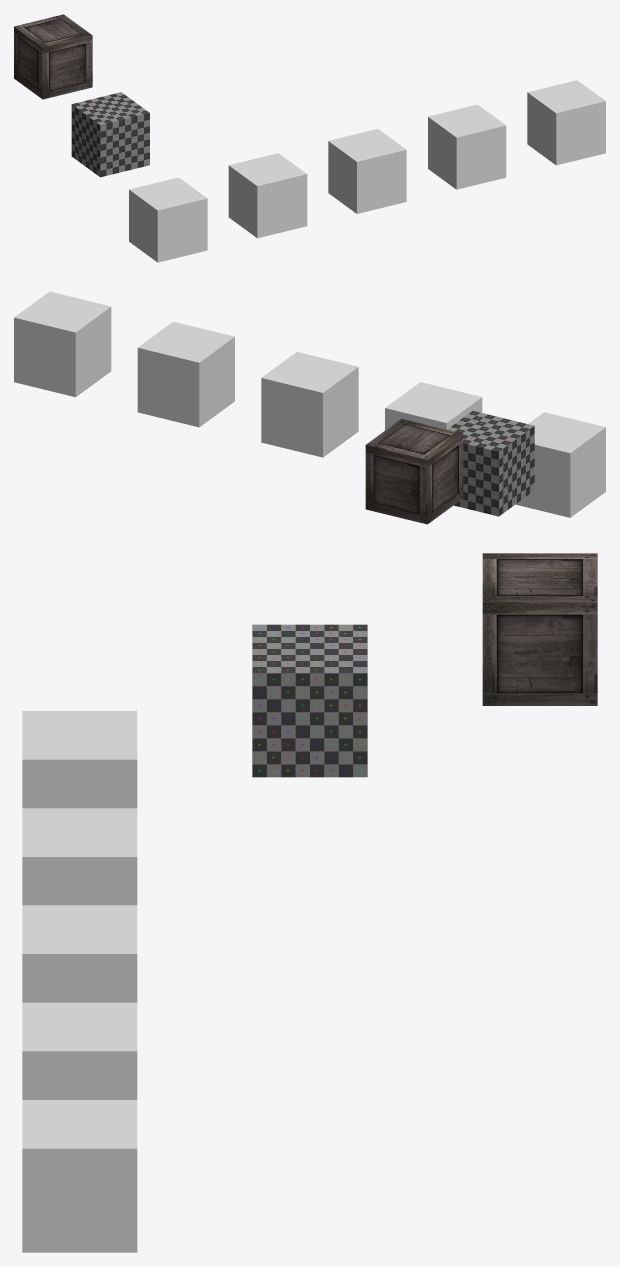
Rendered from Complex.glb.
3 renders of one model, top to bottom at view 1: azimuth 30°, elevation 25°; view 2: azimuth 150°, elevation 25°; view 3: azimuth 270°, elevation 25°, orthographic. The views are drawn at different scales.
Parts seen in each view (by area): view 1: Cube.001, Cube.003, Cube.004, Cube.006, Cube.005, Cube, Cube.002; view 2: Cube.006, Cube.002, Cube.004, Cube.003, Cube, Cube.005, Cube.001; view 3: Cube.005, Cube.004, Cube.006, Cube.002, Cube.001, Cube.003, Cube.
Part boxes in pixels (box(x1,y1,x2,y2)): Cube.001: box(228, 153, 307, 238); Cube.003: box(428, 104, 506, 189); Cube.004: box(527, 80, 605, 165); Cube.006: box(14, 14, 92, 99); Cube.005: box(71, 92, 149, 177); Cube: box(129, 177, 207, 262); Cube.002: box(328, 129, 406, 213); Cube.006: box(365, 418, 463, 524); Cube.002: box(261, 352, 358, 457); Cube.004: box(14, 291, 111, 397); Cube.003: box(137, 321, 234, 427); Cube: box(515, 412, 605, 517); Cube.005: box(447, 411, 534, 516); Cube.001: box(385, 382, 482, 430); Cube.005: box(252, 624, 367, 777); Cube.004: box(22, 1100, 137, 1252); Cube.006: box(482, 553, 597, 705); Cube.002: box(22, 905, 137, 1002); Cube.001: box(22, 808, 137, 905); Cube.003: box(22, 1002, 137, 1099); Cube: box(22, 711, 137, 808).
Bounding box in the file's own units: 18 × 5.03 × 10.
7 materials, 2 textured.
